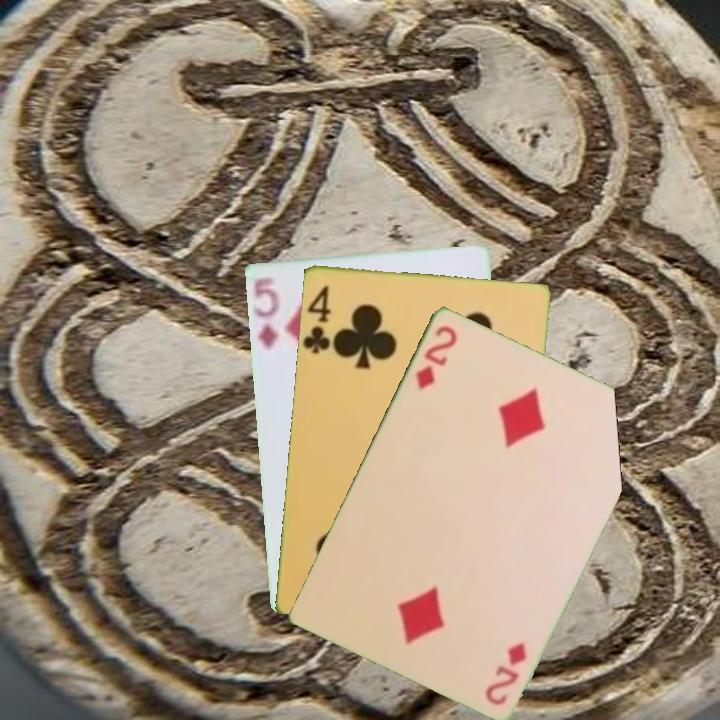2d: (481, 638, 530, 708), (412, 321, 460, 392)
4c: (300, 281, 337, 356)
5d: (249, 272, 282, 353)
